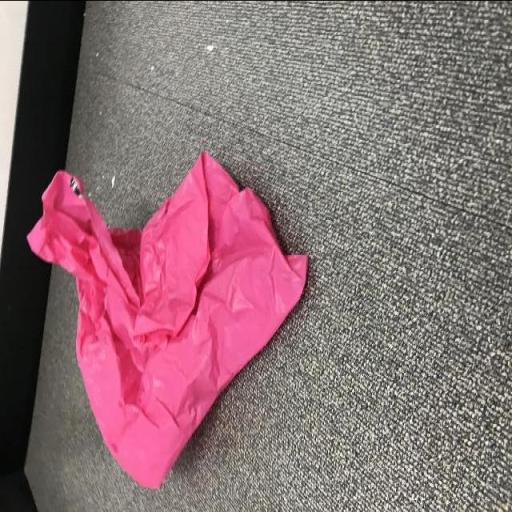plastic-bag: (25, 142, 316, 492)
